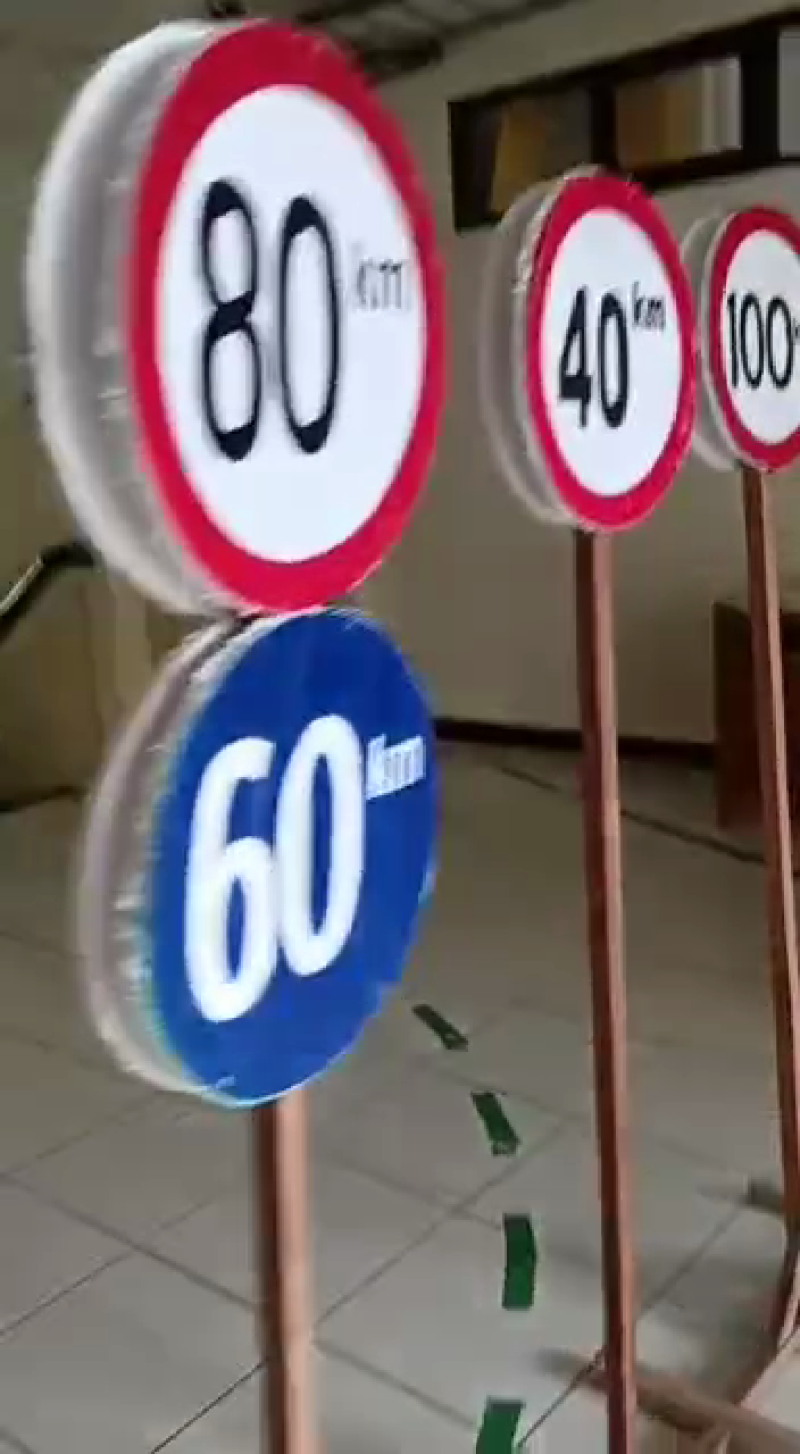batas maksimal 100kmperjam: (702, 193, 800, 474)
batas maksimal 40kmperjam: (502, 167, 695, 541)
batas maksimal 80kmperjam minimal 60kmperjam: (76, 1, 453, 1106)
